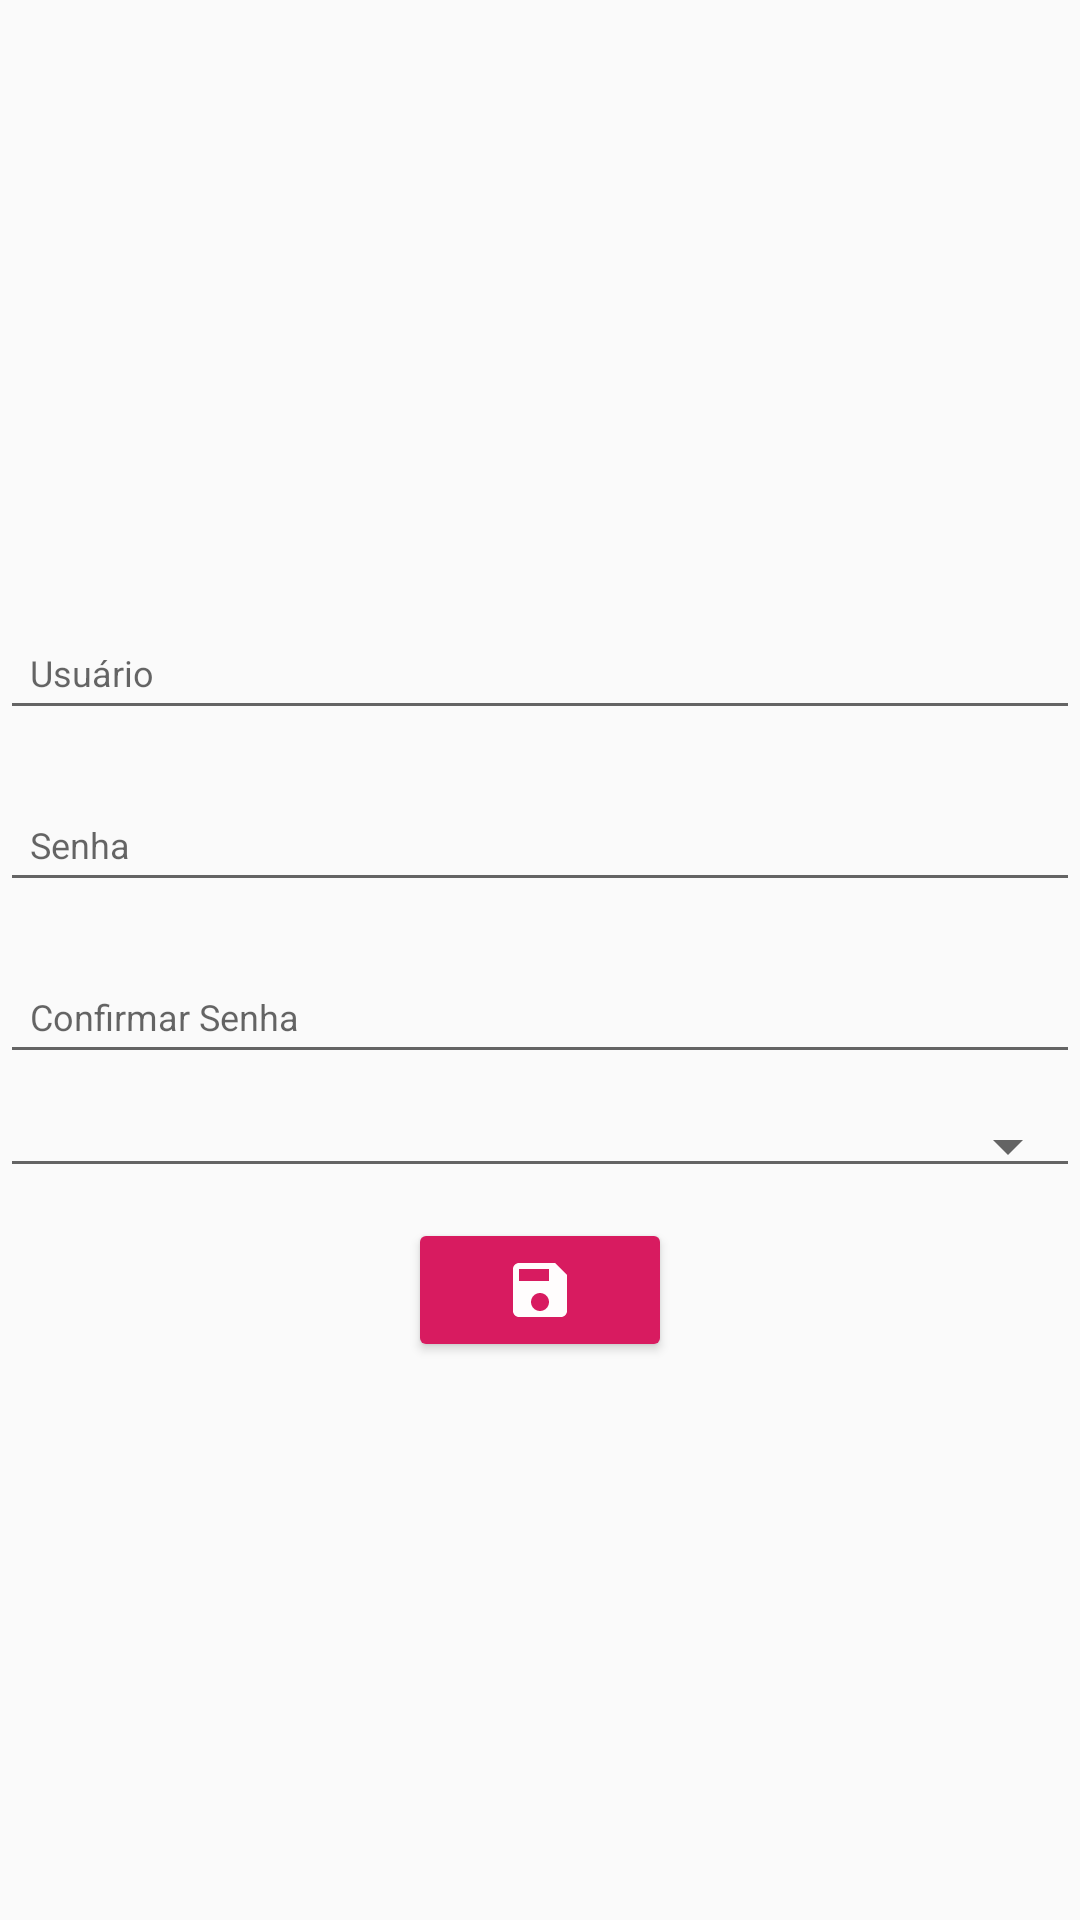

Icons on this 1080*1920 Android screen, each with the point to tap as (x=x, y=y):
save: (x=540, y=1291)
